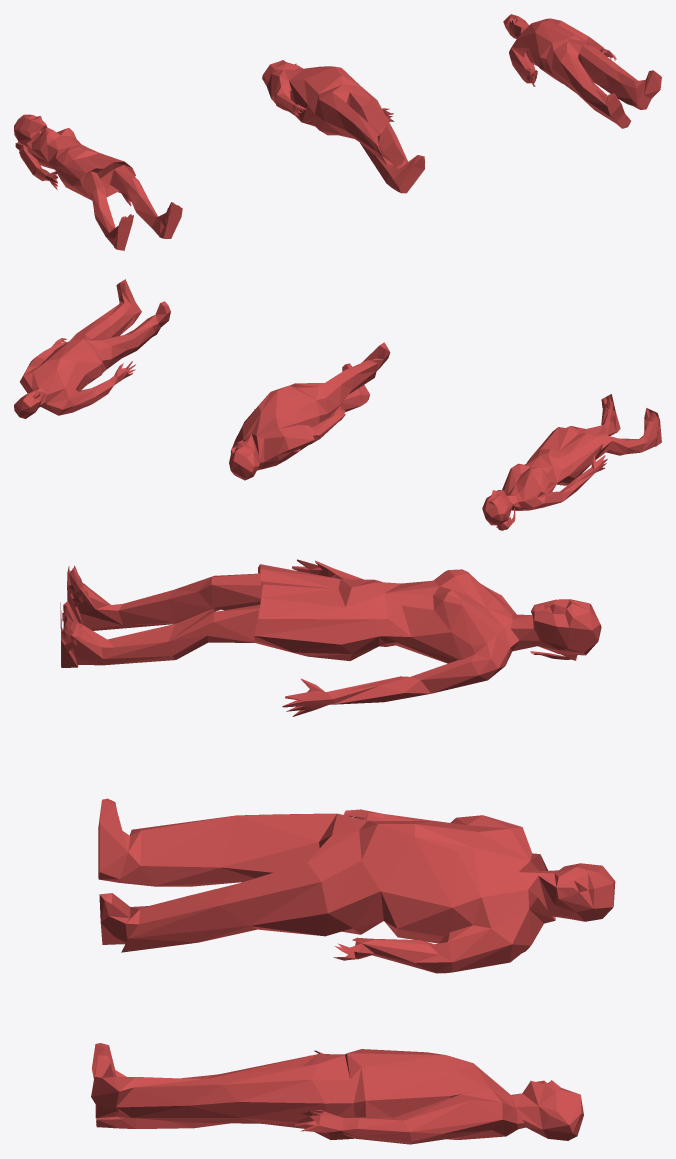
Rendered from 未标题 2.fbx.
3 renders of one model, top to bottom at view 1: azimuth 30°, elevation 25°; view 2: azimuth 150°, elevation 25°; view 3: azimuth 270°, elevation 25°, orthographic. The views are drawn at different scales.
Visible parts, largest first — view 1: 胖, 男, 女; view 2: 男, 胖, 女; view 3: 胖, 女, 男.
Part boxes in pixels (x1,y1,x2,y2): 胖: [262, 60, 425, 193]; 男: [503, 14, 661, 128]; 女: [14, 114, 182, 250]; 男: [14, 279, 170, 418]; 胖: [229, 342, 390, 480]; 女: [482, 394, 661, 530]; 胖: [98, 798, 615, 973]; 女: [60, 559, 601, 716]; 男: [91, 1043, 583, 1144].
Size of the model in its own units: 426 by 49.06 by 187.
